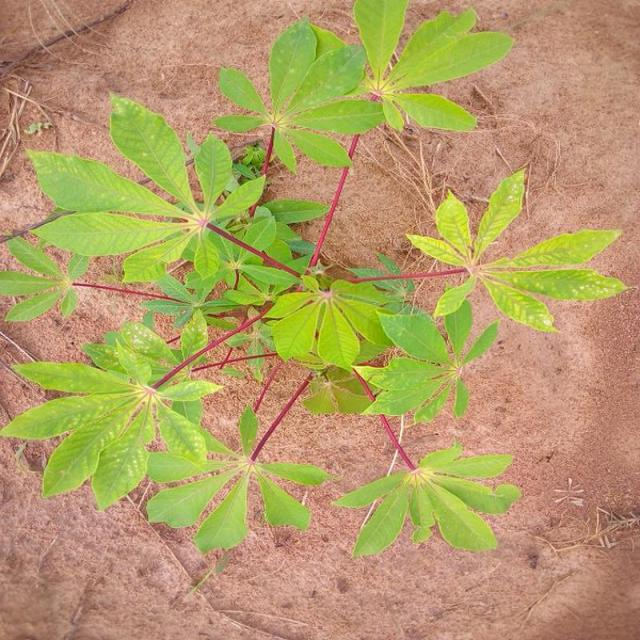cassava leaf: (2, 2, 632, 575)
